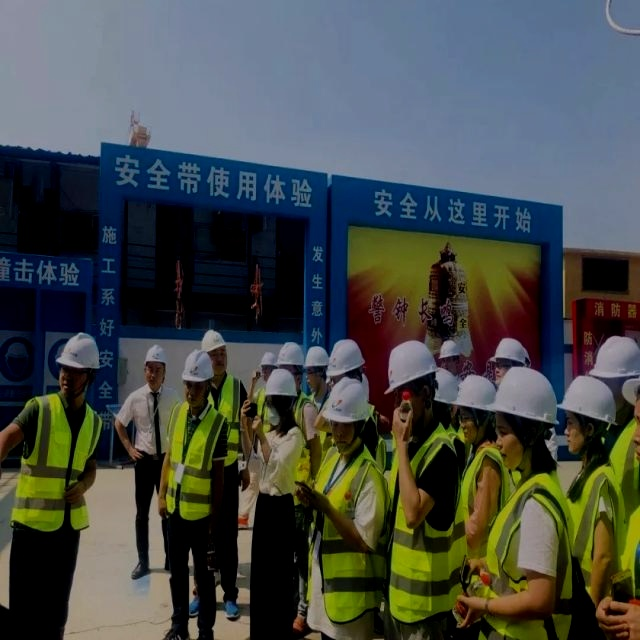Sin_Chaleco: (390, 441, 466, 611), (315, 447, 379, 633), (19, 395, 98, 533), (170, 404, 225, 516)
